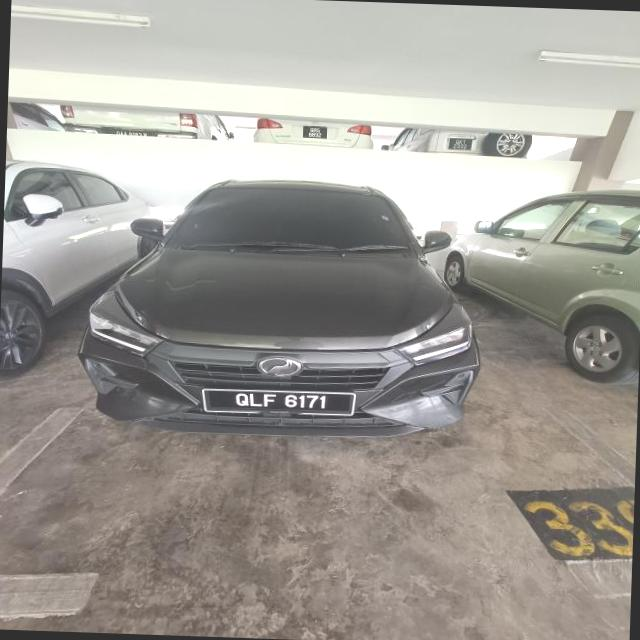PeroduaAxia: (73, 170, 488, 442)
